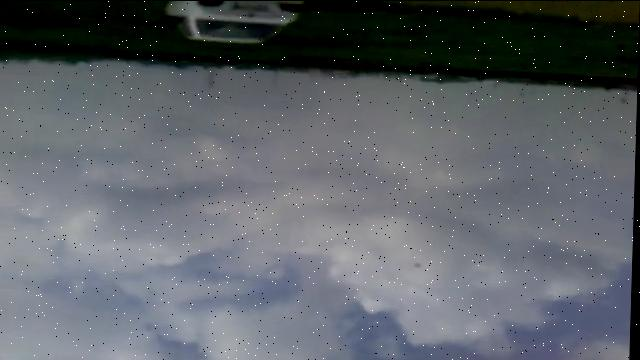drone: (412, 261, 423, 271)
